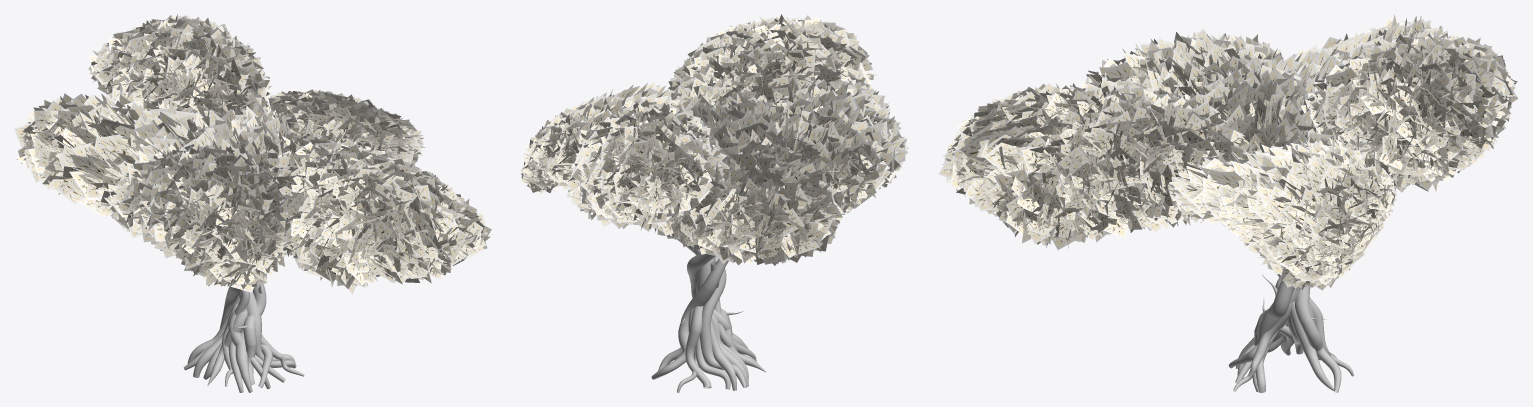
File: tree 2.fbx
3 views of the same model, side by side, from view 1: azimuth 30°, elevation 25°; view 2: azimuth 150°, elevation 25°; view 3: azimuth 270°, elevation 25° (orthographic). The views are drawn at different scales.
Parts seen in each view (by area): view 1: NurbsPath.051; view 2: NurbsPath.051; view 3: NurbsPath.051.
Boxes of the visible parts, <box> form: NurbsPath.051: <box>14,14,491,392</box>; NurbsPath.051: <box>520,14,909,392</box>; NurbsPath.051: <box>939,14,1518,392</box>.
Bounding box in the file's own units: 6914 × 5875 × 9020.
